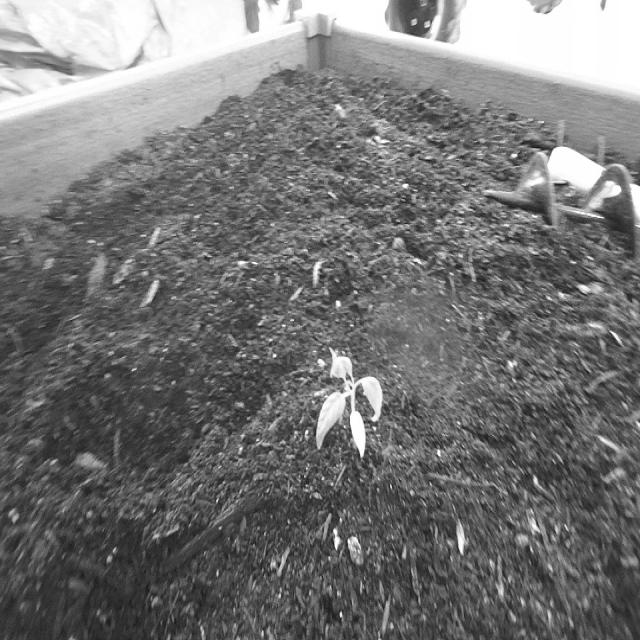Healthy: (310, 340, 388, 480)
